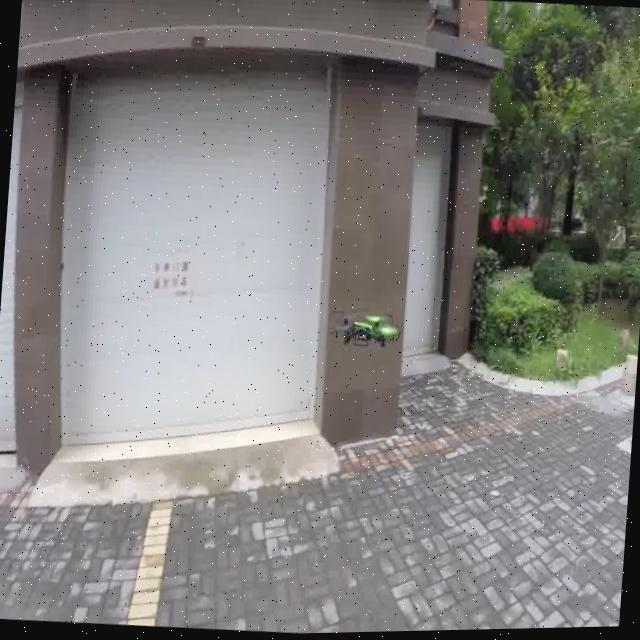drone: (318, 292, 407, 362)
